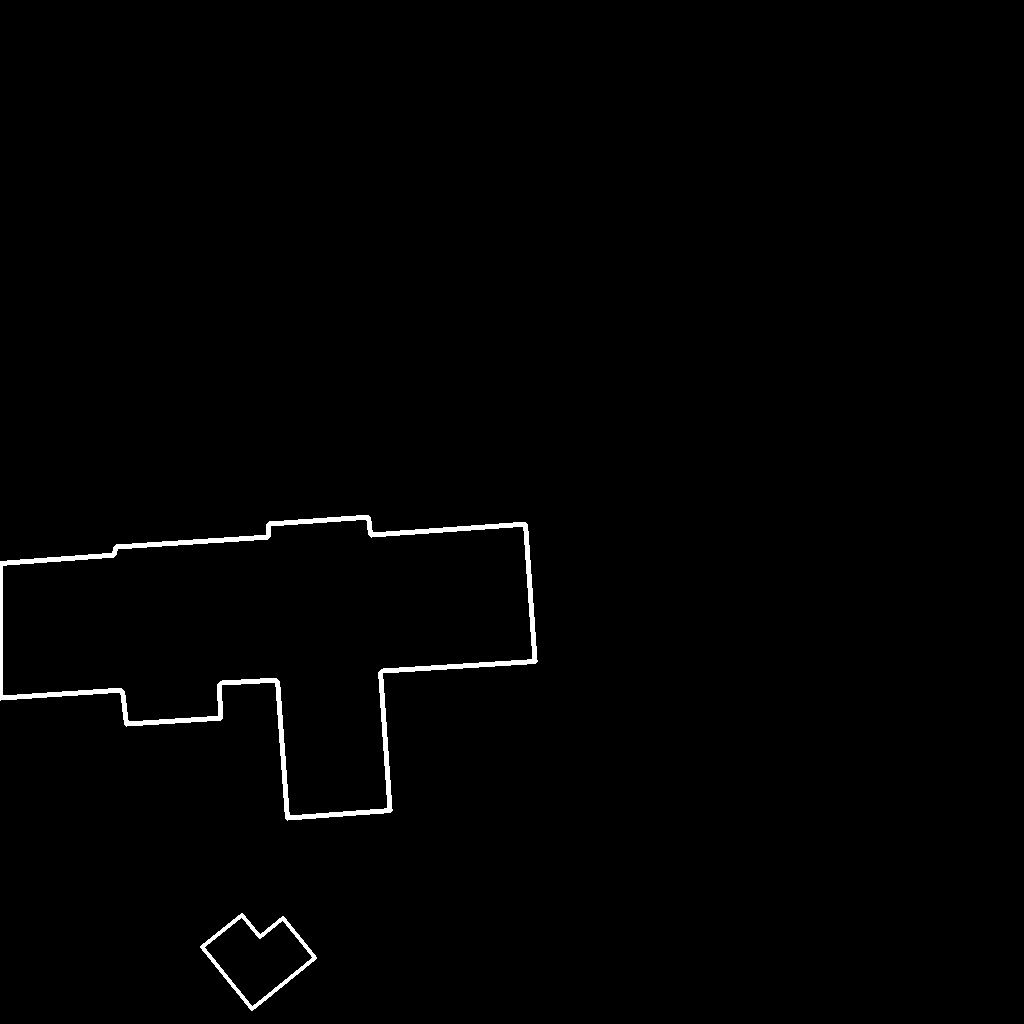building: (0, 517, 536, 819), (202, 915, 316, 1010)
